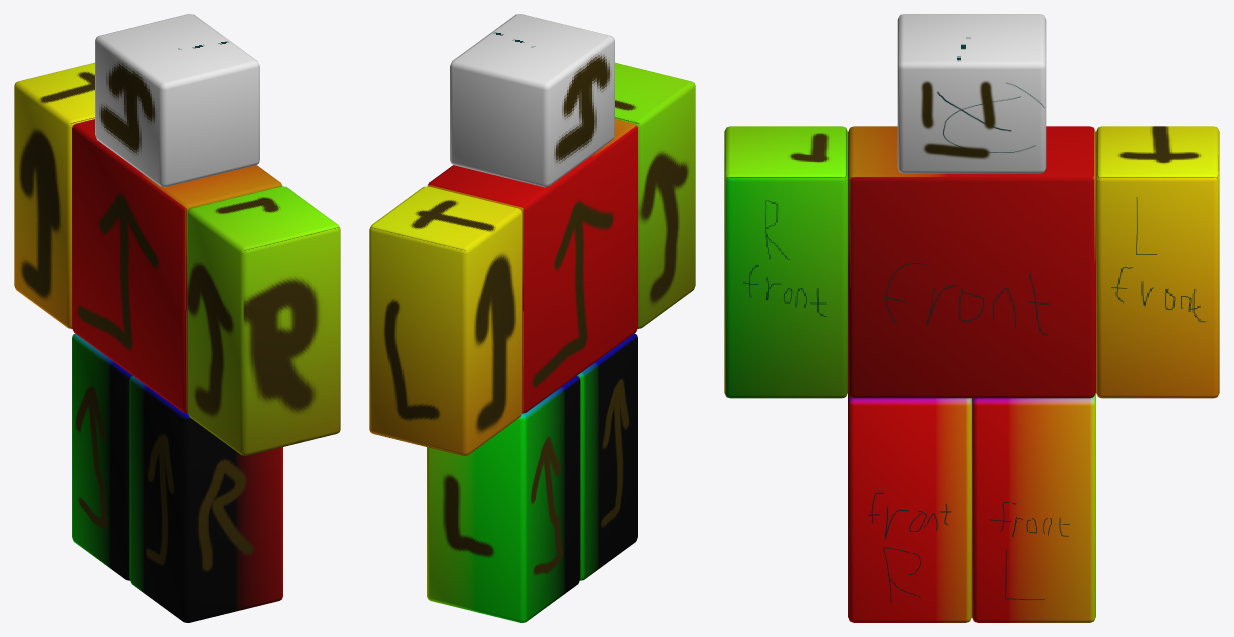
The model's file is char.glb.
3 renders of one model, left to right at view 1: azimuth 30°, elevation 25°; view 2: azimuth 150°, elevation 25°; view 3: azimuth 270°, elevation 25°, orthographic. The views are drawn at different scales.
Visible parts, largest first — view 1: arm, Cube.001, Cube.004, Cube, arm.001, Cube.002; view 2: arm.001, Cube.002, Cube.004, Cube, arm, Cube.001; view 3: Cube.004, arm, arm.001, Cube.001, Cube.002, Cube.
Boxes of the visible parts, box(x1,y1,x2,y2) form: arm: box(187, 186, 340, 455); Cube.001: box(129, 376, 282, 622); Cube.004: box(72, 119, 282, 413); Cube: box(95, 14, 259, 187); arm.001: box(14, 62, 94, 328); Cube.002: box(72, 333, 132, 580); arm.001: box(369, 186, 522, 455); Cube.002: box(427, 376, 580, 622); Cube.004: box(427, 119, 637, 413); Cube: box(450, 14, 614, 187); arm: box(615, 62, 695, 328); Cube.001: box(577, 333, 637, 580); Cube.004: box(848, 126, 1095, 398); arm: box(724, 126, 847, 398); arm.001: box(1096, 126, 1219, 398); Cube.001: box(848, 393, 971, 622); Cube.002: box(972, 393, 1095, 622); Cube: box(897, 14, 1046, 173).
Bounding box in the file's own units: 1 × 5 × 4.
3 materials, 3 textured.
